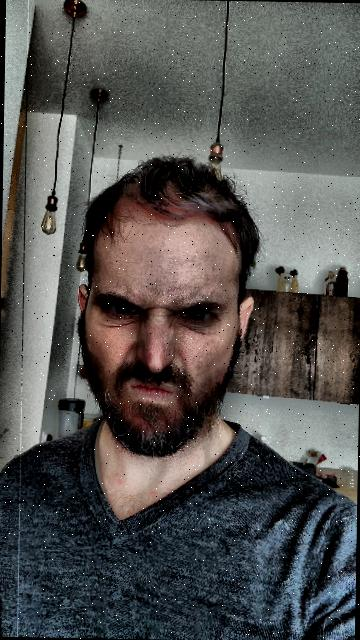angry: (70, 147, 264, 465)
